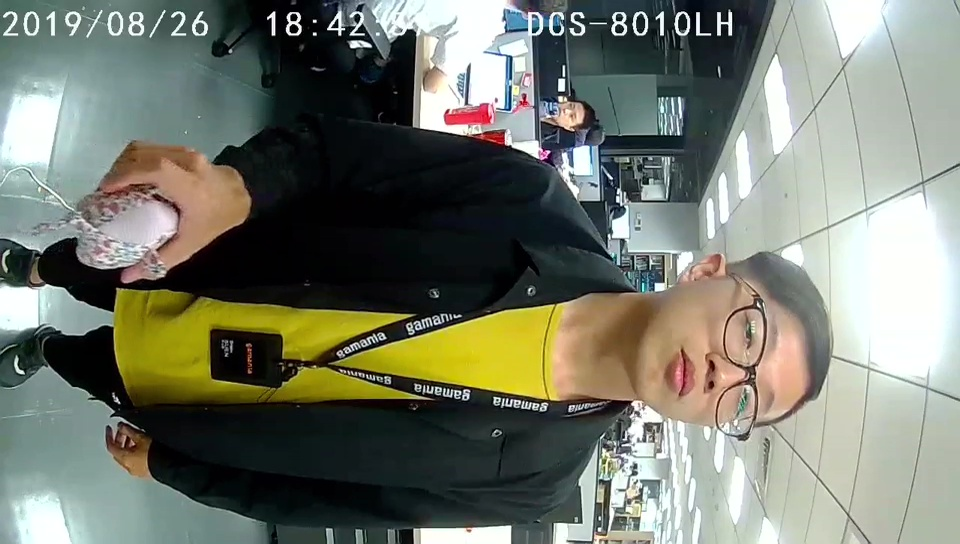pig: (71, 183, 182, 281)
